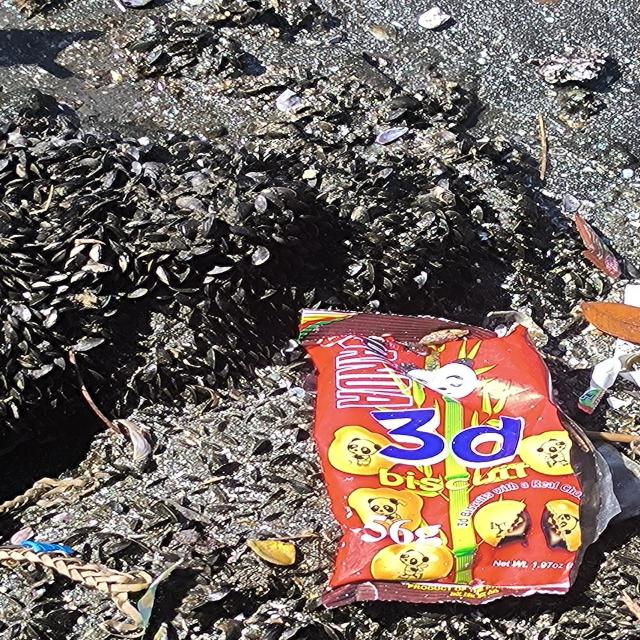plastic_waste: (295, 309, 583, 605), (575, 216, 622, 280), (580, 383, 609, 415)
